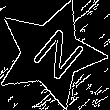N_SW: (18, 22, 82, 86)
